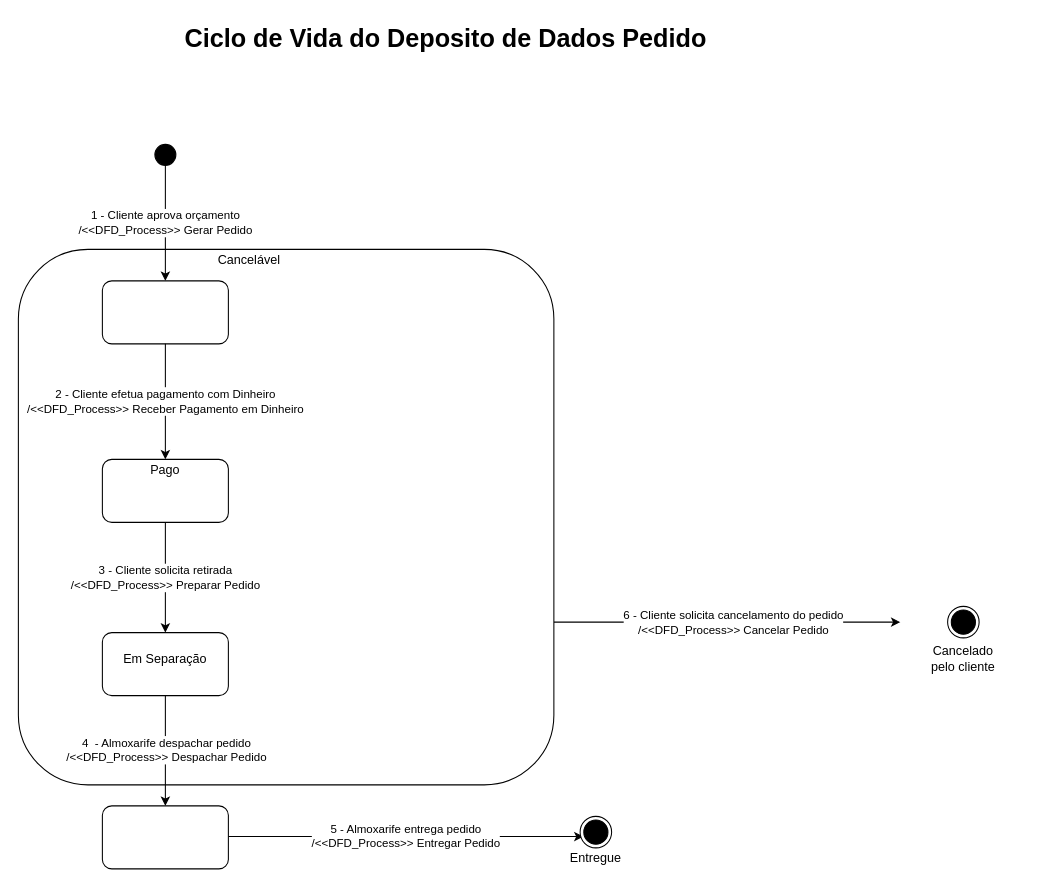
This 1045x887 diagram has some shape labels left out. Each missing label, with the box of its shape:
Despachado: (101, 805, 228, 869)
Gerado: (101, 280, 228, 344)
